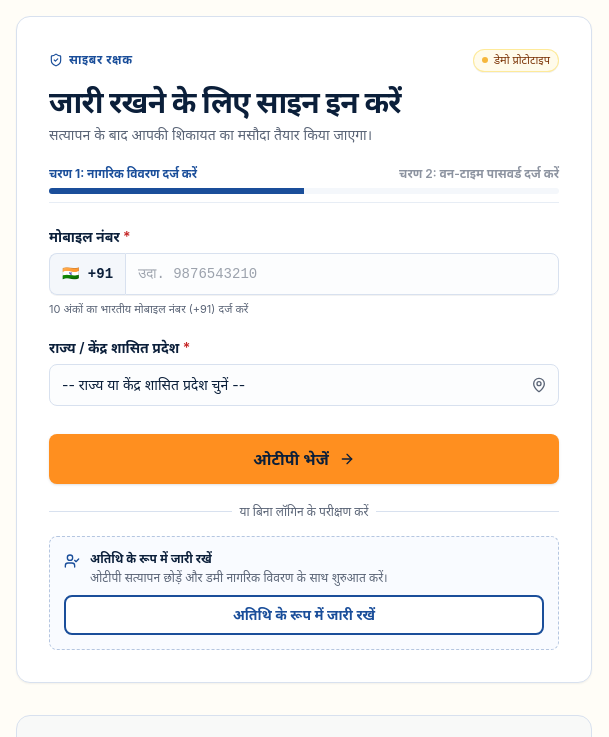
Test: LoginPage › displays Hindi localized state name in Step 2 summary when active language is hi
Type "9876543210" into the field labelled "मोबाइल नंबर *".
click(342, 274); type("9876543210")  # box left=125, top=253, right=559, bottom=295
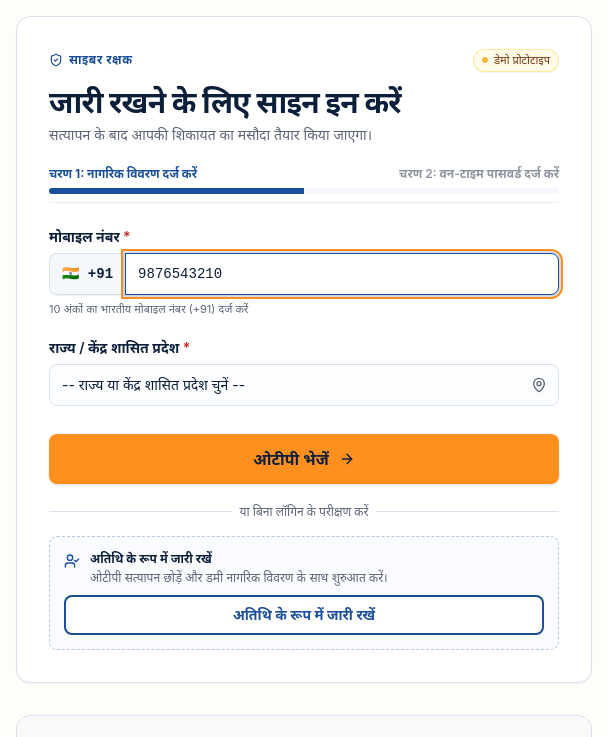
Select "तेलंगाना" in the dropdown labelled "राज्य / केंद्र शासित प्रदेश *" at (304, 385), box left=49, top=364, right=559, bottom=406
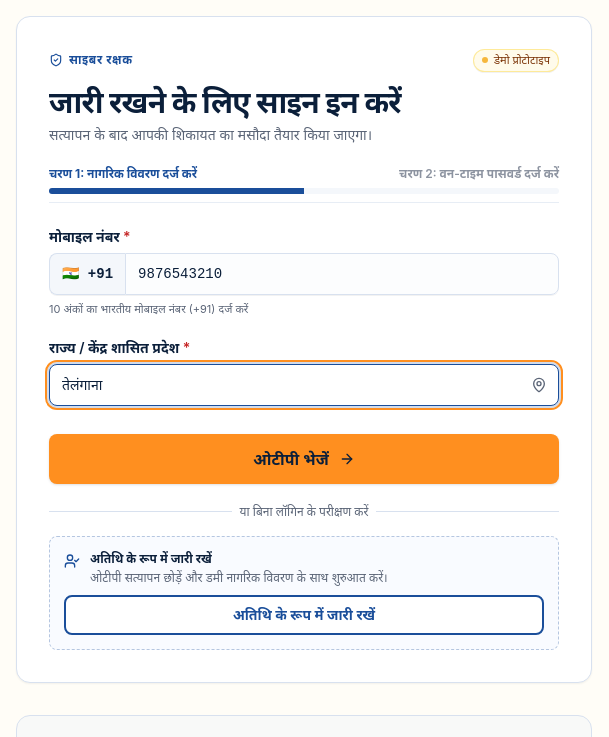
Click the button "ओटीपी भेजें".
click(304, 459)  # box left=49, top=434, right=559, bottom=484
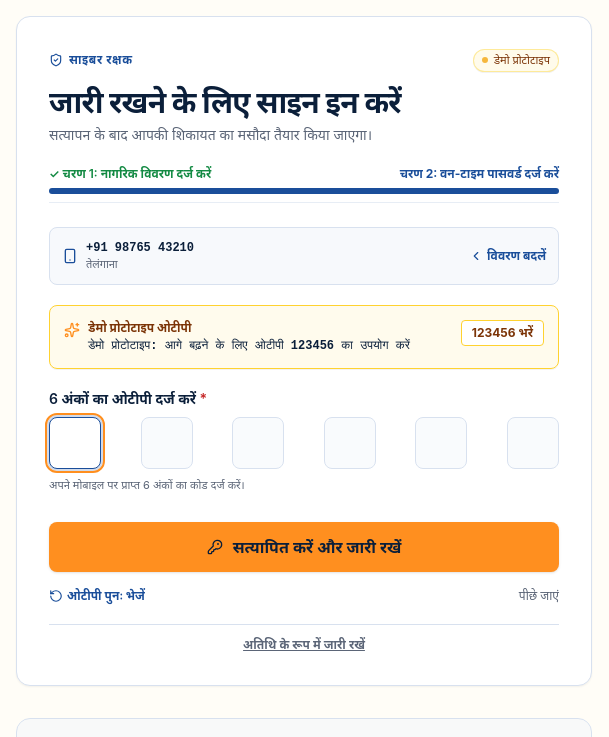
Expected: the text "6 अंकों का ओटीपी दर्ज करें *" is shown, left=49, top=390, right=207, bottom=407
Expected: the text "तेलंगाना" is shown, left=86, top=257, right=118, bottom=271
